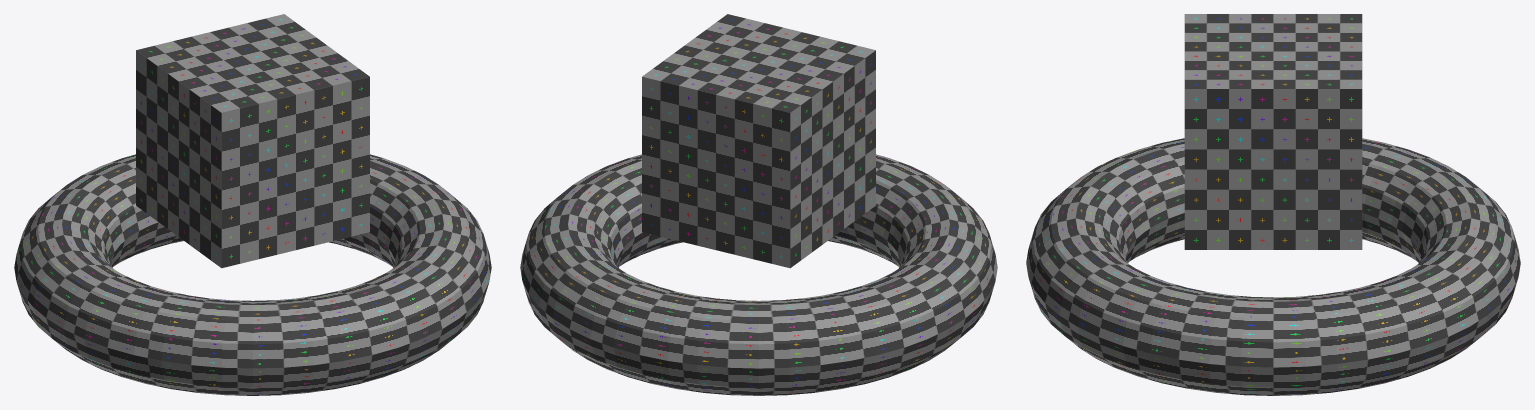
3 views of the same model, side by side, from view 1: azimuth 30°, elevation 25°; view 2: azimuth 150°, elevation 25°; view 3: azimuth 270°, elevation 25° (orthographic). The views are drawn at different scales.
Visible parts, largest first — view 1: Torus, Cube; view 2: Torus, Cube; view 3: Torus, Cube.
Part boxes in pixels (bbox=[...]): Torus: bbox=[14, 154, 491, 395]; Cube: bbox=[136, 14, 369, 268]; Torus: bbox=[520, 154, 997, 395]; Cube: bbox=[642, 14, 875, 268]; Torus: bbox=[1026, 138, 1520, 395]; Cube: bbox=[1184, 14, 1362, 249].
Bounding box in the file's own units: 5.57 × 3.19 × 5.57.
1 material, 1 textured.
